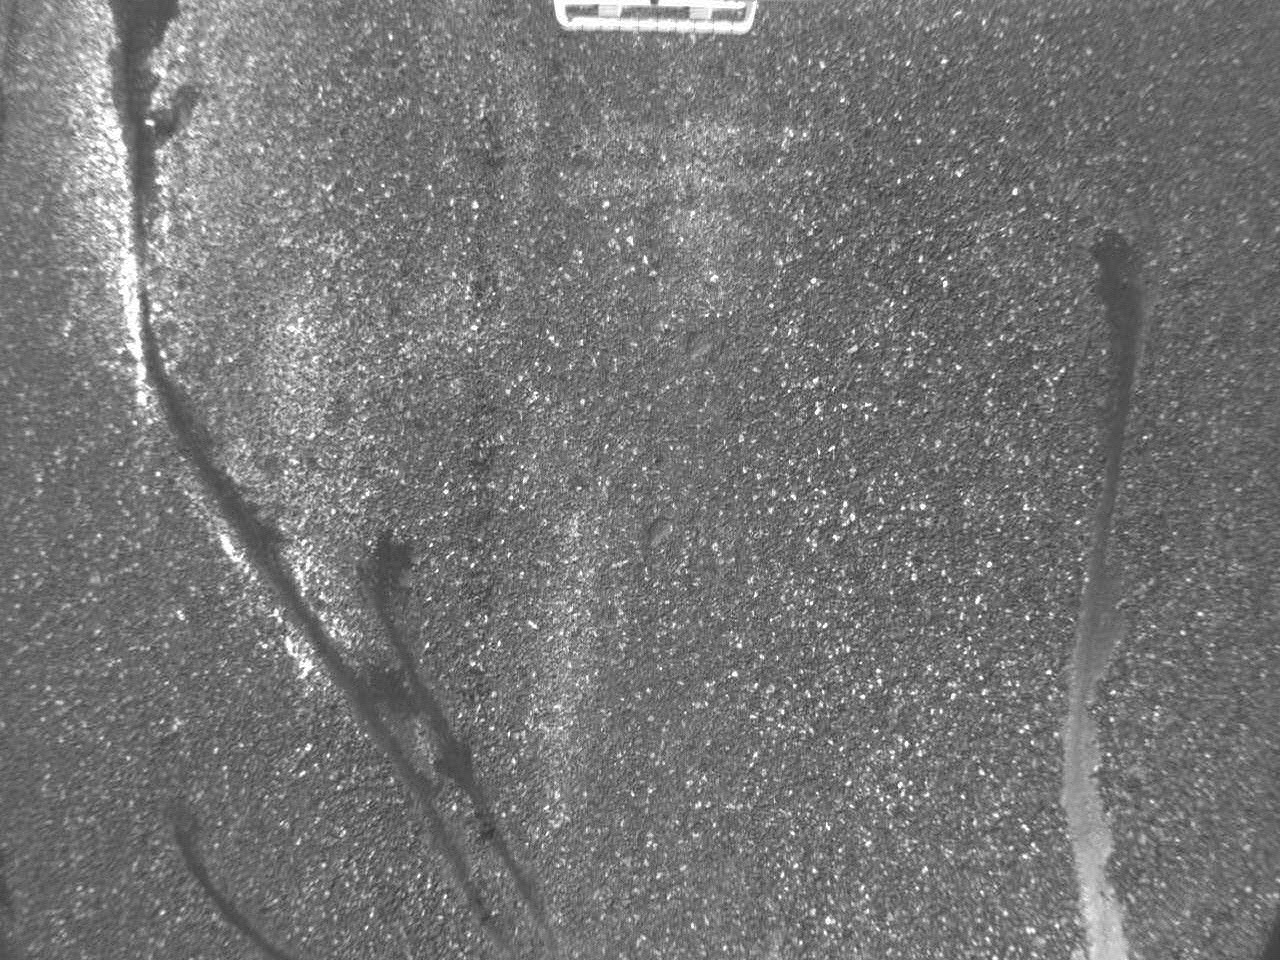sealed: (1053, 224, 1163, 957)
